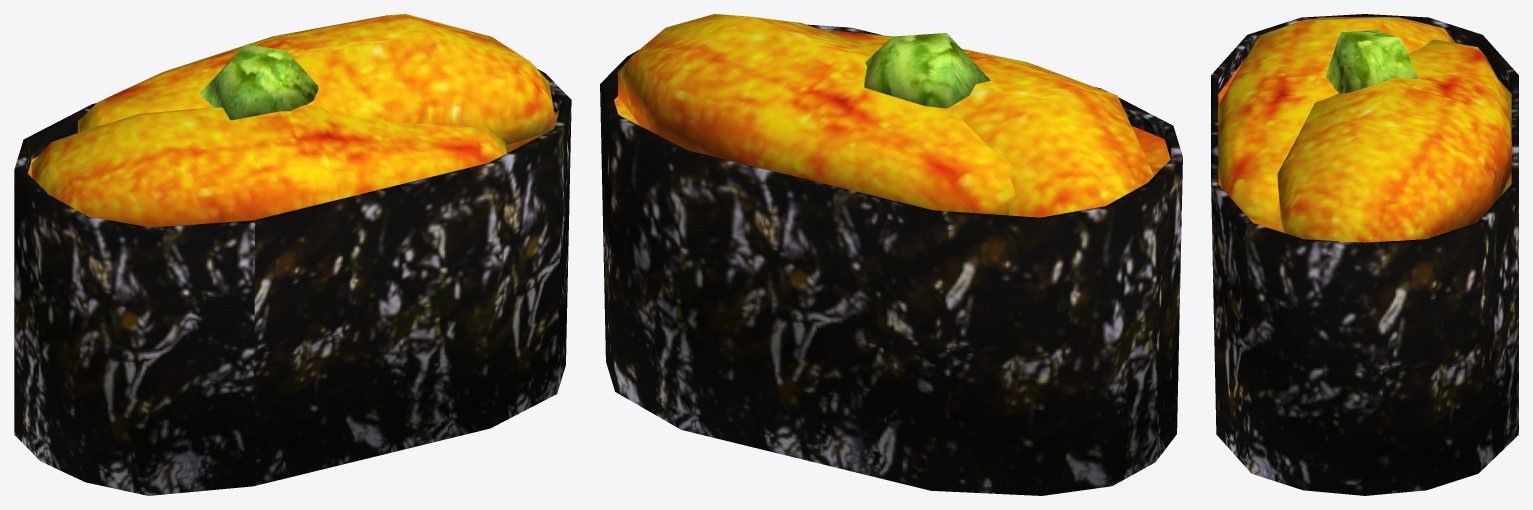
File: sea_urchin_4.fbx
3 views of the same model, side by side, from view 1: azimuth 30°, elevation 25°; view 2: azimuth 150°, elevation 25°; view 3: azimuth 270°, elevation 25° (orthographic). The views are drawn at different scales.
Parts seen in each view (by area): view 1: sea_urchin_4; view 2: sea_urchin_4; view 3: sea_urchin_4.
Boxes of the visible parts, box(x1,y1,x2,y2) form: sea_urchin_4: box(14, 14, 571, 495); sea_urchin_4: box(600, 14, 1182, 495); sea_urchin_4: box(1211, 14, 1518, 495).
Size of the model in its own units: 5.61 by 3.71 by 3.14.
